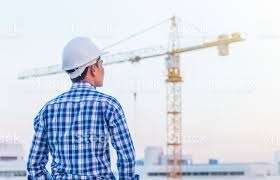helmet: (60, 36, 109, 72)
person with partial safety: (27, 37, 140, 179)
